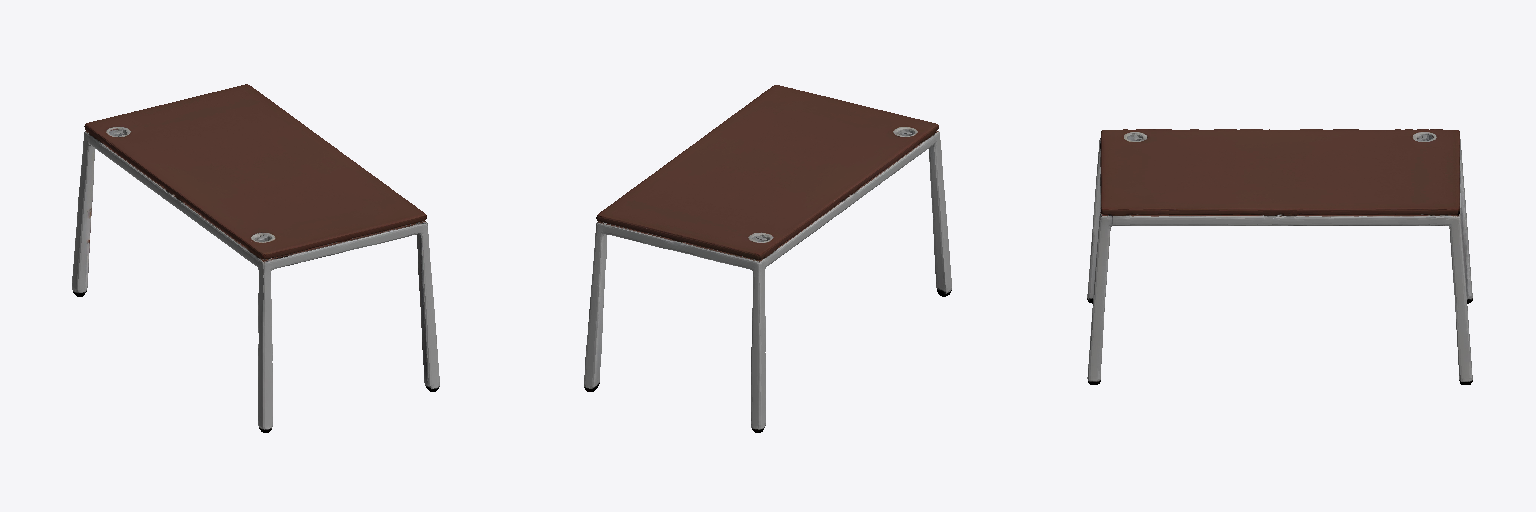
3 renders of one model, left to right at view 1: azimuth 30°, elevation 25°; view 2: azimuth 150°, elevation 25°; view 3: azimuth 270°, elevation 25°, orthographic.
Visible parts, largest first — view 1: tripo_node_23bc2206-93f4-498d-b9f0-4e4d5f458015; view 2: tripo_node_23bc2206-93f4-498d-b9f0-4e4d5f458015; view 3: tripo_node_23bc2206-93f4-498d-b9f0-4e4d5f458015.
Part boxes in pixels (x1,y1,x2,y2): tripo_node_23bc2206-93f4-498d-b9f0-4e4d5f458015: (72, 84, 439, 432); tripo_node_23bc2206-93f4-498d-b9f0-4e4d5f458015: (584, 85, 951, 432); tripo_node_23bc2206-93f4-498d-b9f0-4e4d5f458015: (1087, 129, 1472, 384).
Bounding box in the file's own units: 0.53 × 0.4968 × 0.9943.
1 materials, 1 textured.